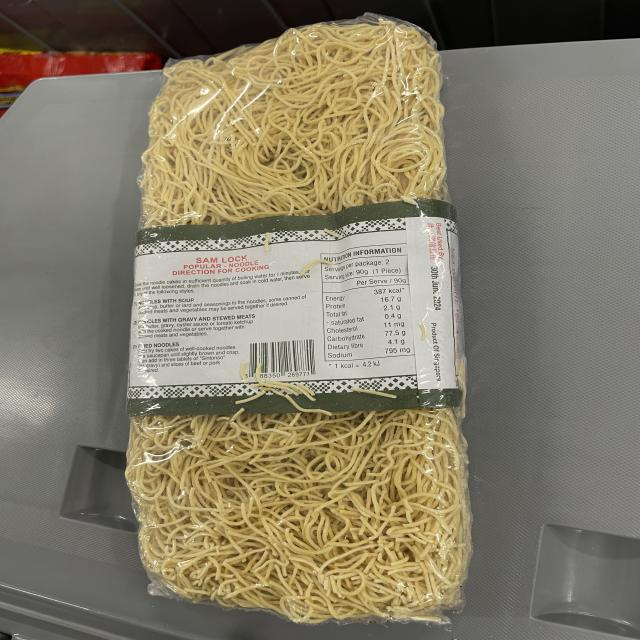object_name: (160, 53, 453, 590)
